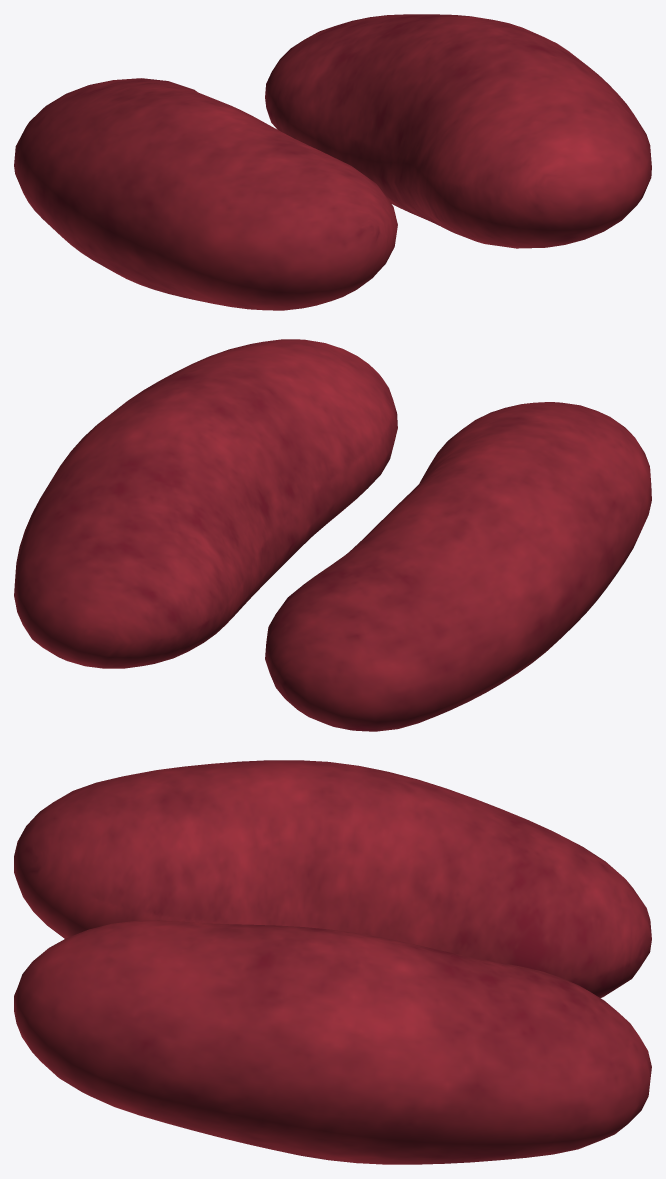
Rendered from Kidney.fbx.
3 renders of one model, top to bottom at view 1: azimuth 30°, elevation 25°; view 2: azimuth 150°, elevation 25°; view 3: azimuth 270°, elevation 25°, orthographic. The views are drawn at different scales.
Parts seen in each view (by area): view 1: Kidney_LOD0; view 2: Kidney_LOD0; view 3: Kidney_LOD0.
Boxes of the visible parts, left/top/right/bottom form: Kidney_LOD0: left=14, top=14, right=651, bottom=310; Kidney_LOD0: left=14, top=339, right=651, bottom=731; Kidney_LOD0: left=14, top=760, right=651, bottom=1164.
Size of what is drawn, in the model's own units: 0.2576 by 0.0909 by 0.2429.
1 material, 1 textured.
